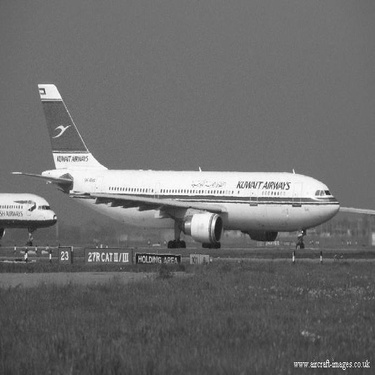airplane: (20, 60, 347, 267), (3, 182, 63, 255)
